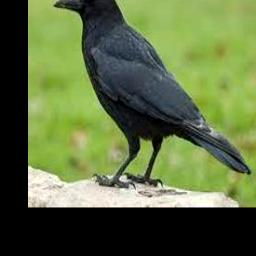Crow: (55, 0, 250, 188)
